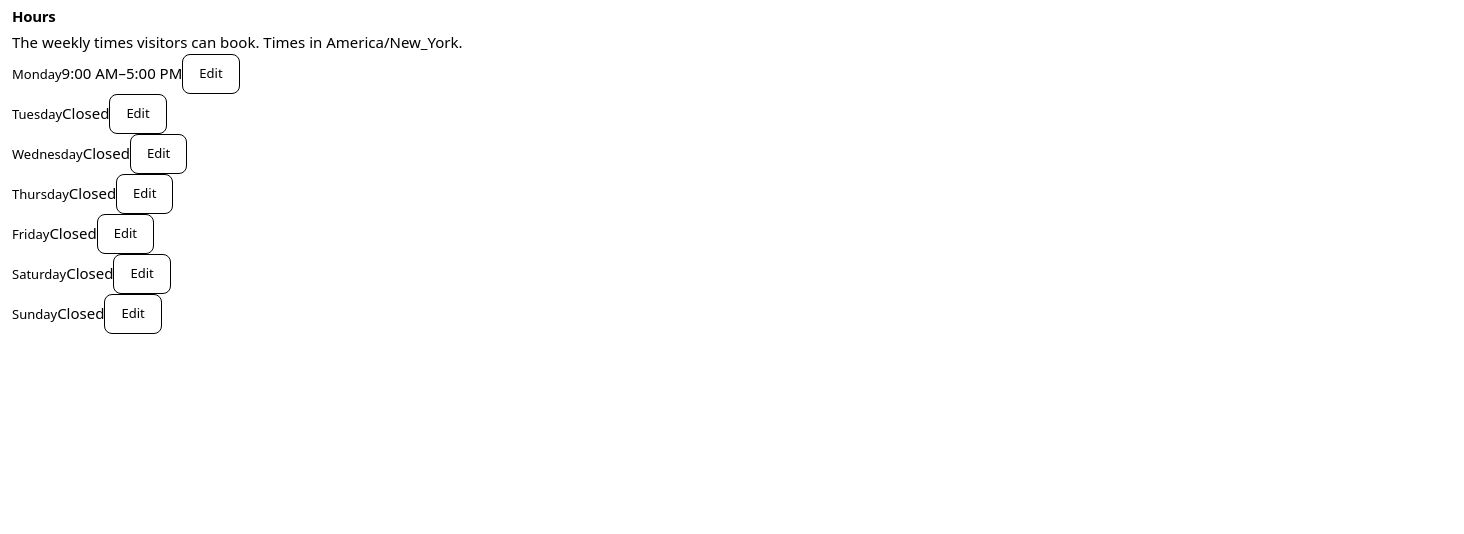
it: HoursPage › marks a day closed
This screenshot has width=1464, height=534.
Click the button "Edit" in the row of "Monday": x=211, y=74 [182,54,240,94]
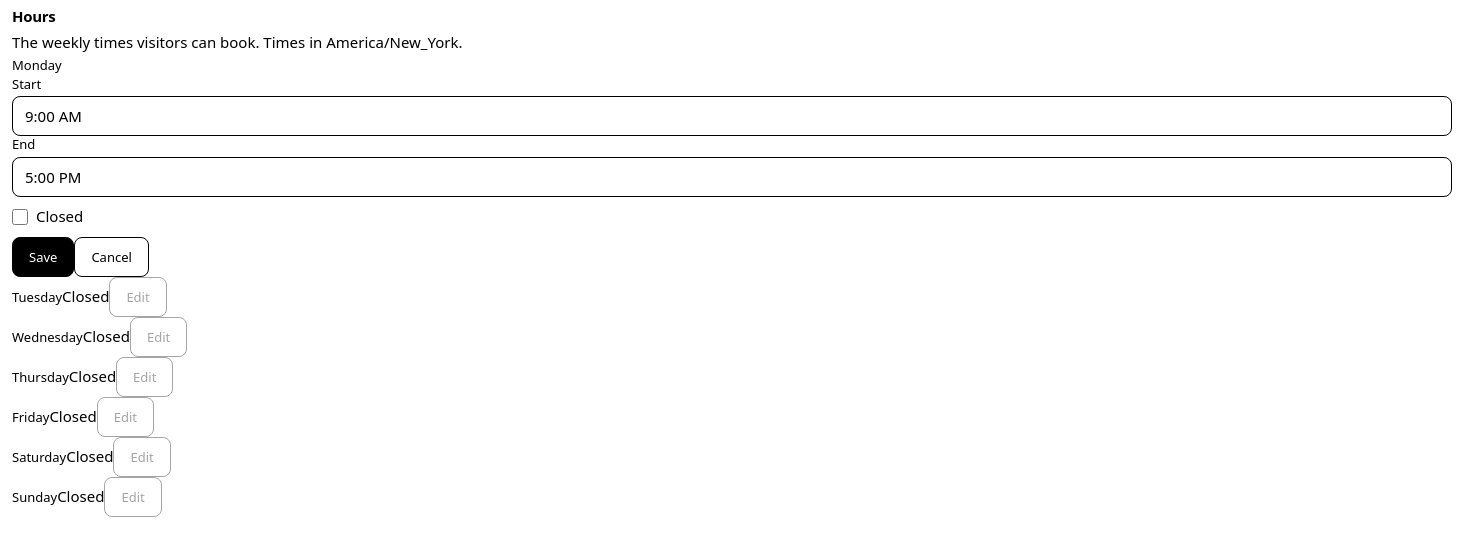
Click the checkbox labelled "Closed": x=20, y=217 [12,209,28,225]
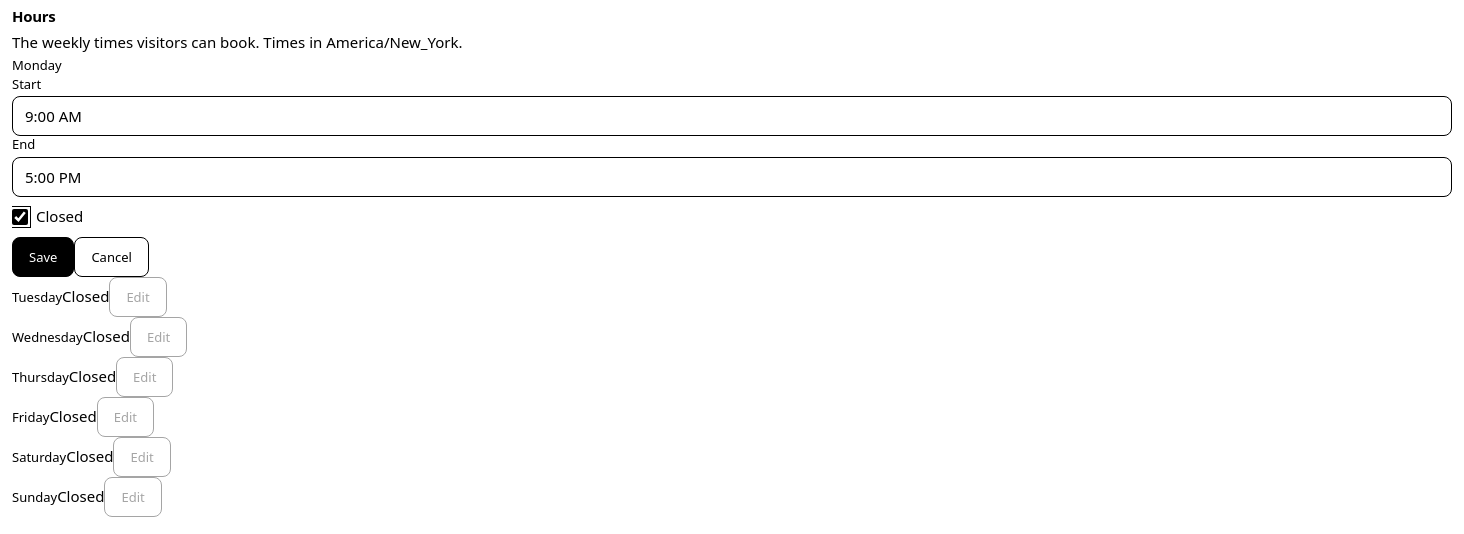
Click the button "Save": x=43, y=257 [12,237,74,277]
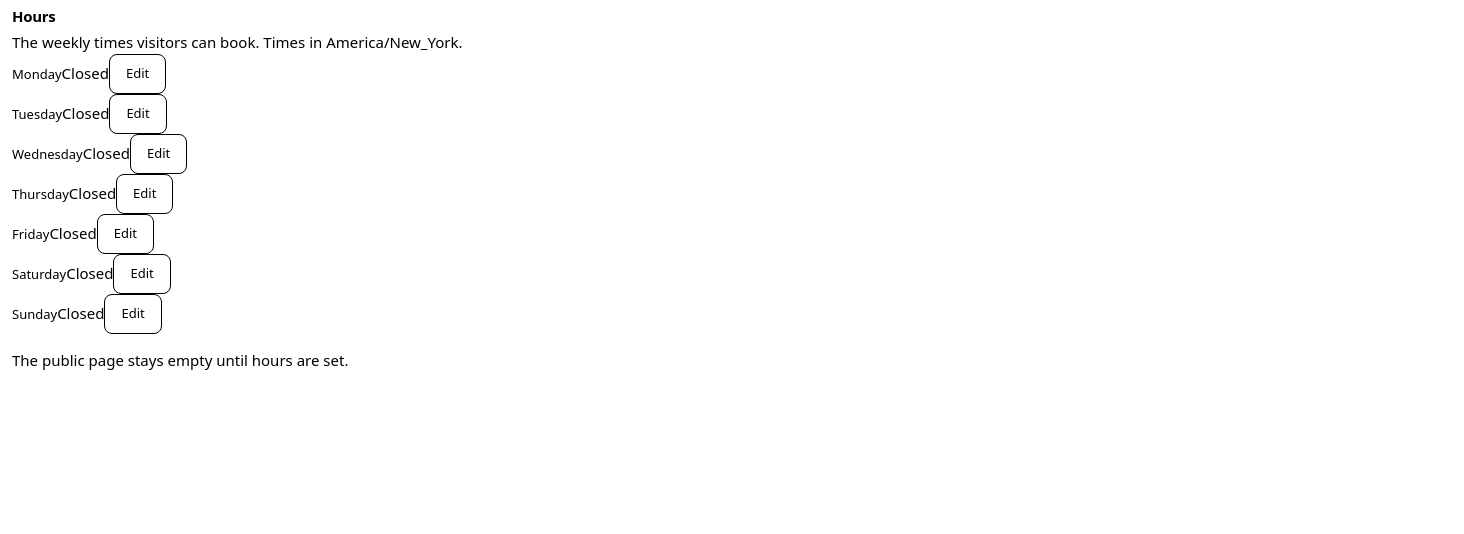
expect the text "The public page stays empty until hours are set." is shown: met, box [12,350,348,370]
